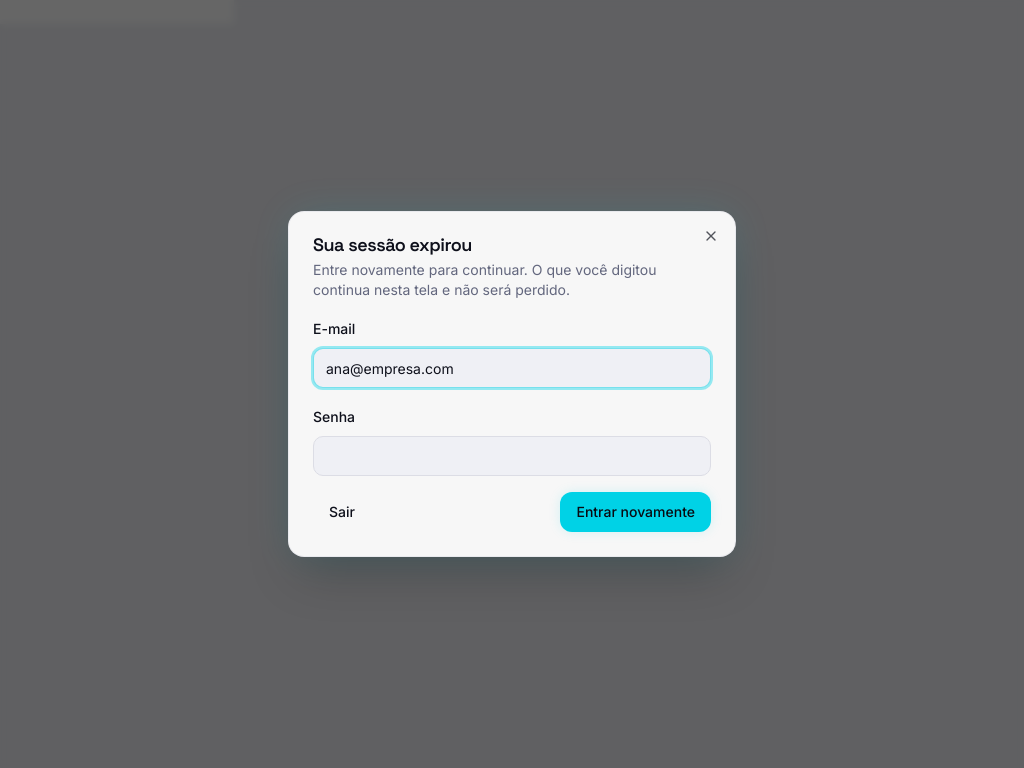
Scenario: sessão expirada › mostra o erro de credencial e mantém o diálogo aberto
The image size is (1024, 768).
Type "errada" into the password field labelled "Senha". click: (512, 456)
box: [313, 436, 711, 476]
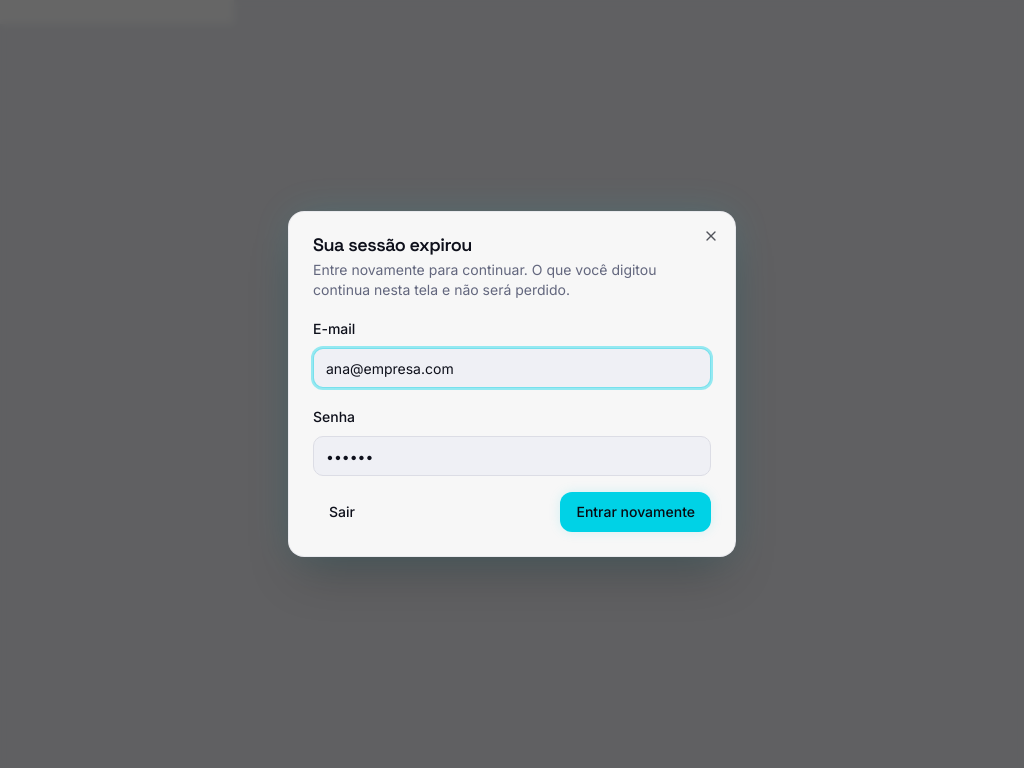
Click the button "Entrar novamente". click: (636, 512)
box: [560, 492, 711, 532]
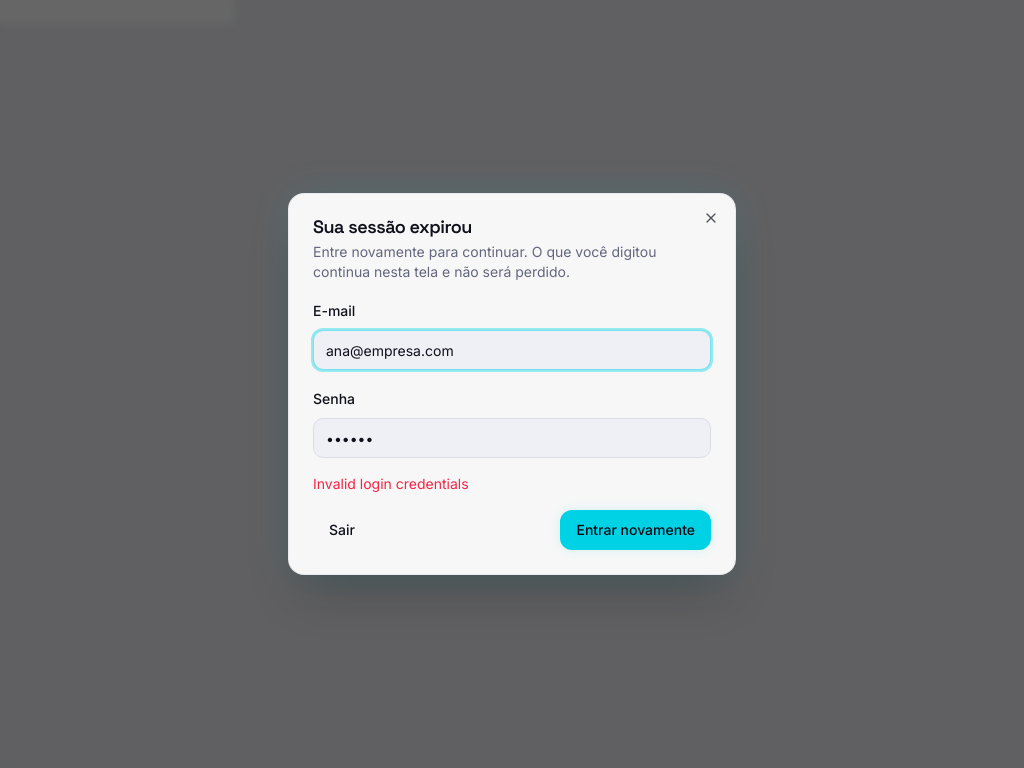
Expected: the heading "Sua sessão expirou" is shown, [313, 215, 472, 238]
Expected: the text "Invalid login credentials" is shown, [313, 475, 469, 492]
